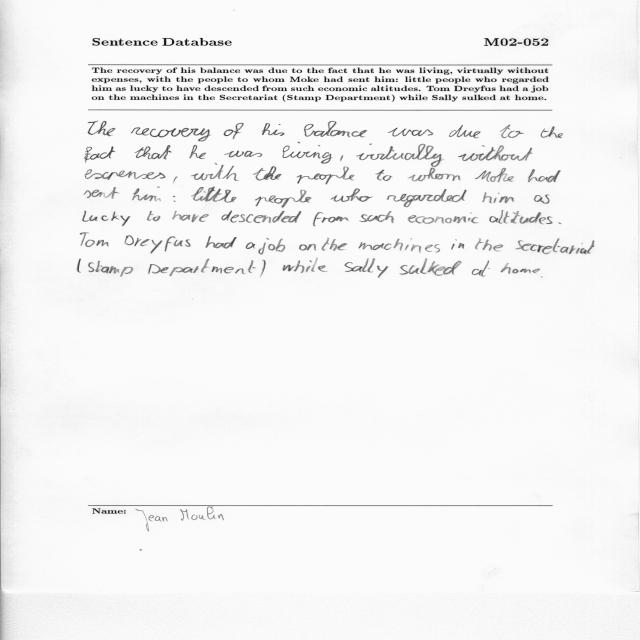word: (356, 144, 444, 167), (148, 259, 256, 276), (298, 121, 367, 144), (387, 189, 467, 207), (515, 238, 595, 254), (125, 235, 191, 254), (358, 238, 440, 253), (131, 127, 210, 142), (458, 145, 532, 161), (400, 258, 462, 276), (296, 167, 355, 185), (255, 190, 312, 208), (221, 211, 302, 223), (282, 145, 332, 164), (85, 169, 166, 180), (345, 258, 389, 278), (408, 212, 478, 224), (489, 211, 553, 224), (191, 164, 238, 181), (83, 211, 131, 226), (88, 261, 133, 277), (408, 168, 461, 181), (192, 187, 237, 202), (283, 258, 328, 273), (330, 188, 373, 202), (475, 168, 514, 182), (313, 212, 349, 227), (134, 145, 172, 159), (85, 146, 115, 163), (258, 238, 285, 255), (500, 263, 540, 274), (253, 166, 282, 181), (528, 170, 561, 183), (88, 121, 116, 136), (84, 187, 119, 199), (359, 211, 394, 223), (205, 236, 237, 249), (172, 211, 209, 222), (132, 187, 161, 201), (388, 128, 433, 137), (450, 125, 481, 138), (81, 233, 109, 247), (475, 238, 503, 251), (482, 193, 514, 204), (322, 238, 348, 251), (224, 123, 244, 139), (500, 125, 524, 138), (262, 123, 285, 136), (472, 261, 490, 277), (224, 151, 262, 158), (541, 126, 563, 138), (189, 145, 206, 159), (376, 170, 393, 181), (534, 194, 549, 204), (451, 239, 464, 250), (147, 211, 160, 221), (299, 244, 316, 251), (260, 260, 266, 276), (246, 242, 256, 249), (78, 259, 82, 273), (173, 176, 178, 182), (341, 156, 344, 162), (173, 196, 176, 202), (558, 223, 561, 225), (541, 277, 543, 278)
